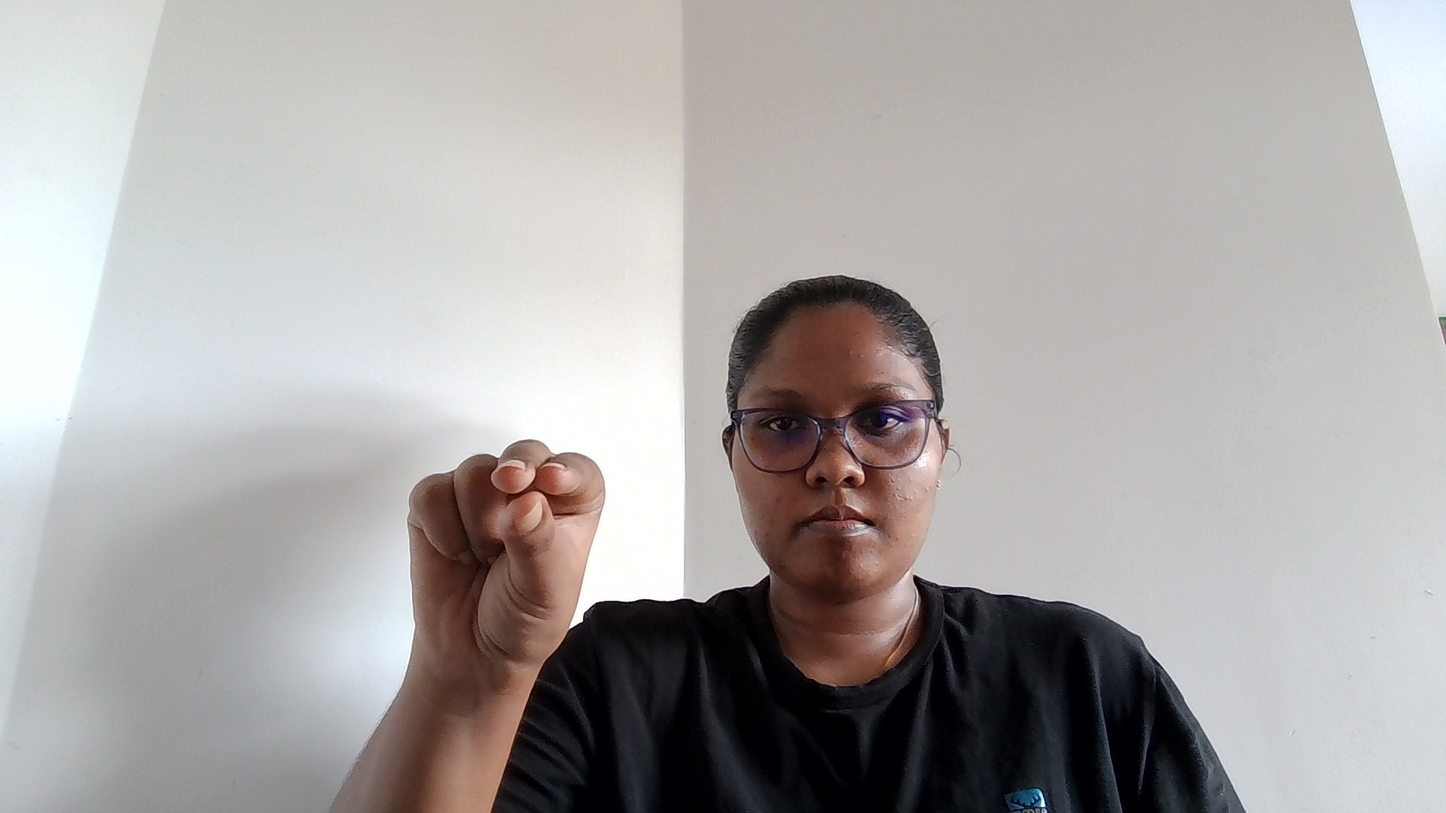No: (341, 396, 664, 695)
